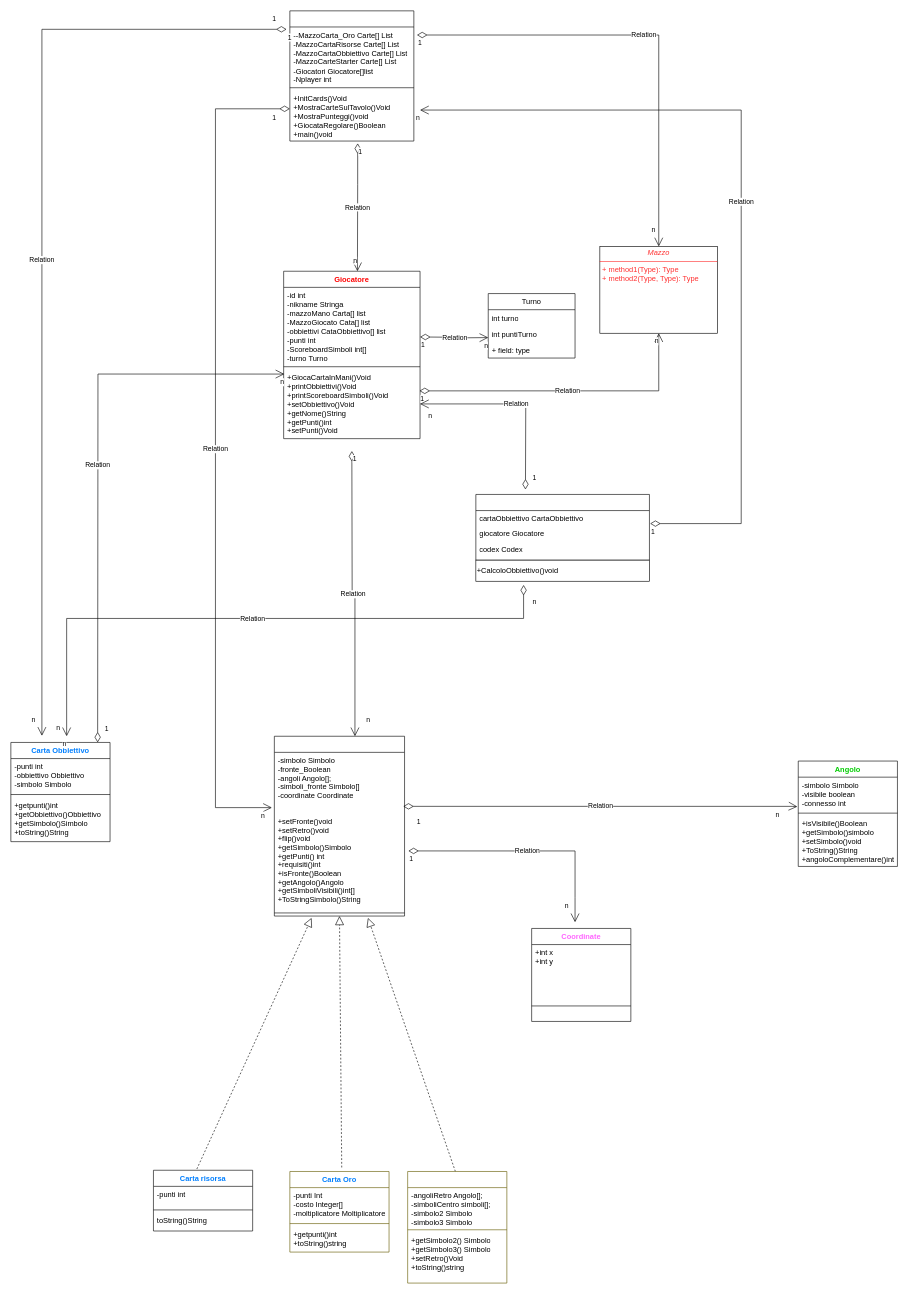
This 908x1296 diagram has some shape labels left out. Here are the shapes that lost their labels. From the top down, the box of each, then its label:
(289, 10, 414, 141): Istanza di gioco(codex)
(475, 494, 649, 560): CalcoloObbiettivo
(274, 736, 405, 916): Carta
(407, 1171, 507, 1283): Carta Starter
